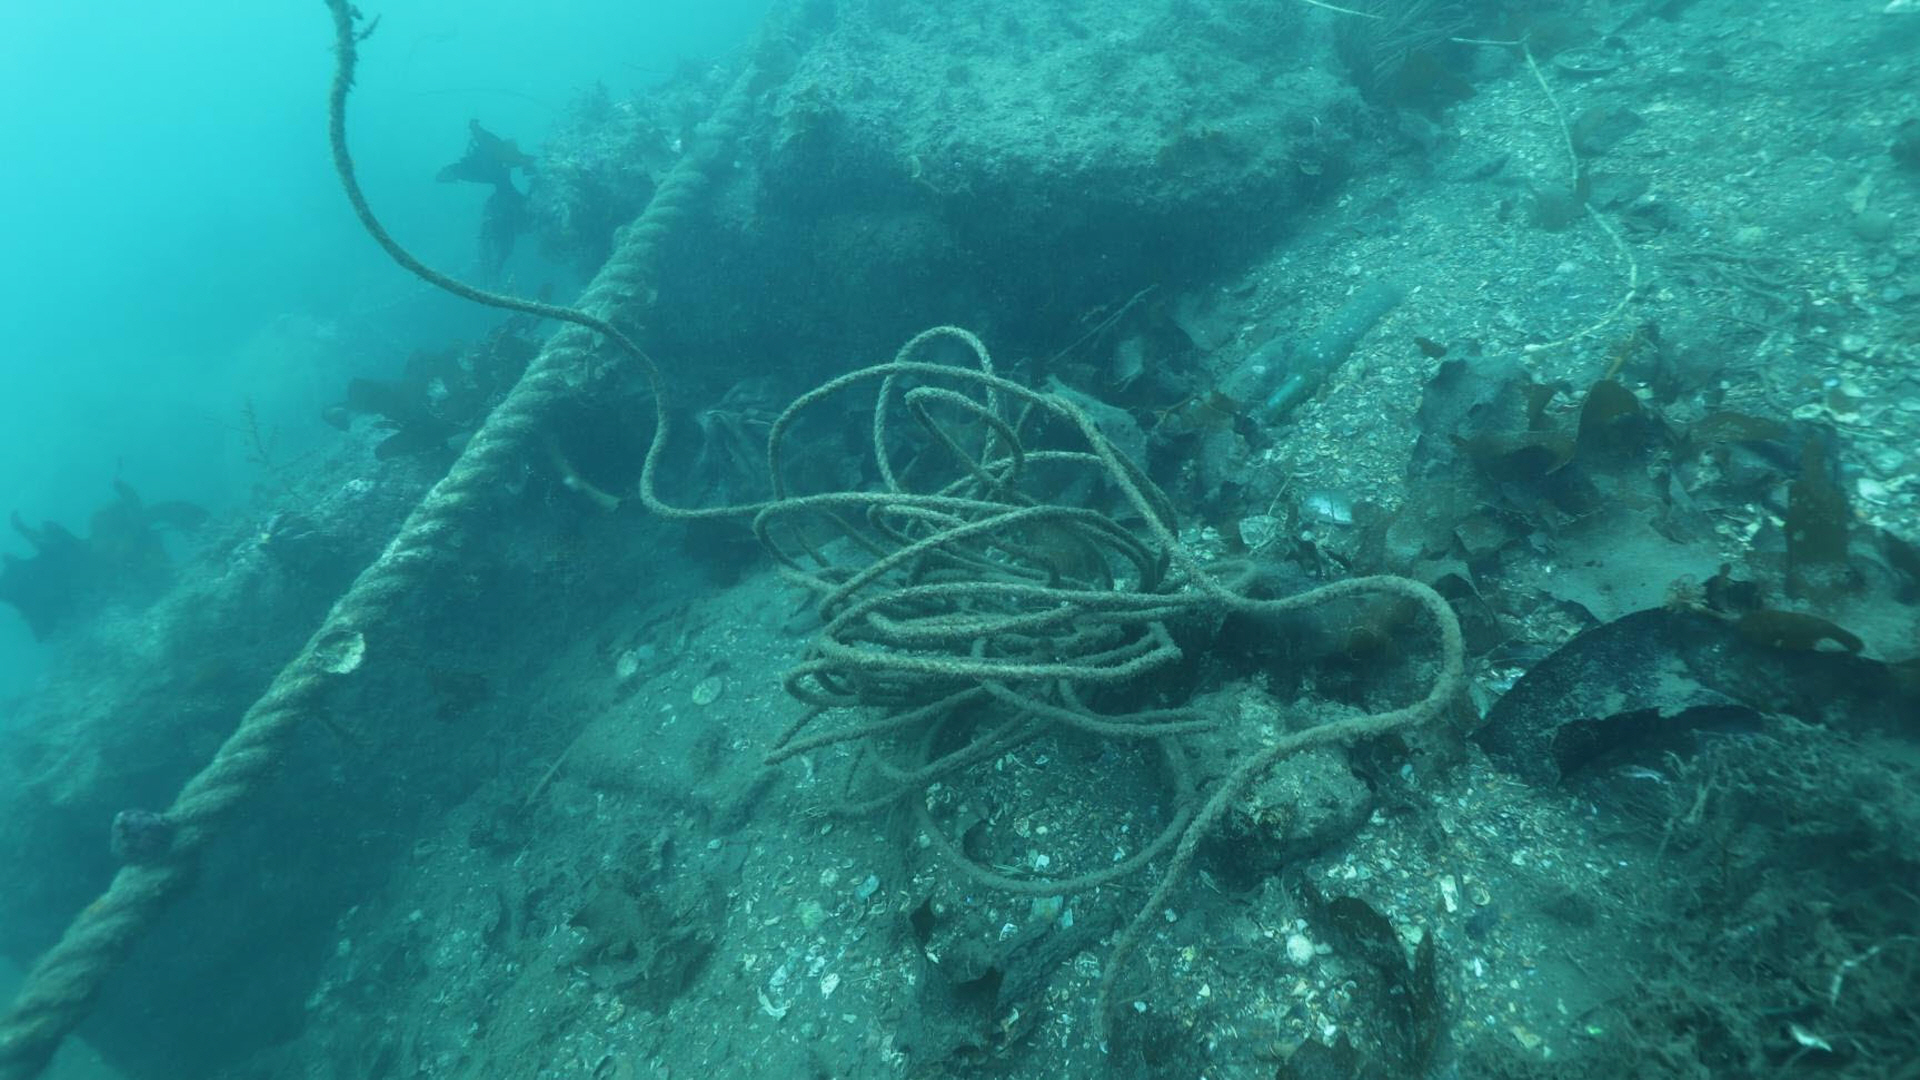bundle of ropes: (318, 0, 1472, 1080)
rope: (0, 3, 829, 1080)
